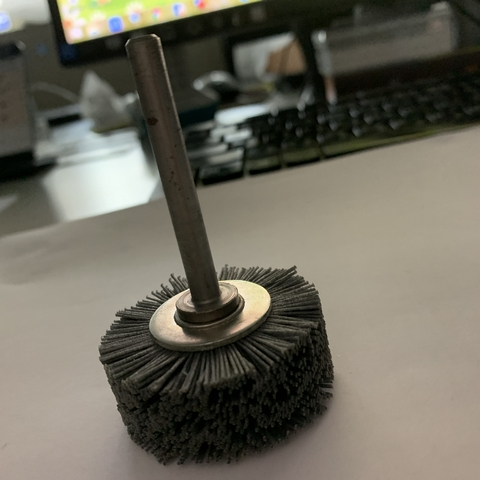Wheel Brush: (80, 30, 327, 461), (122, 29, 359, 466), (100, 32, 340, 460)
